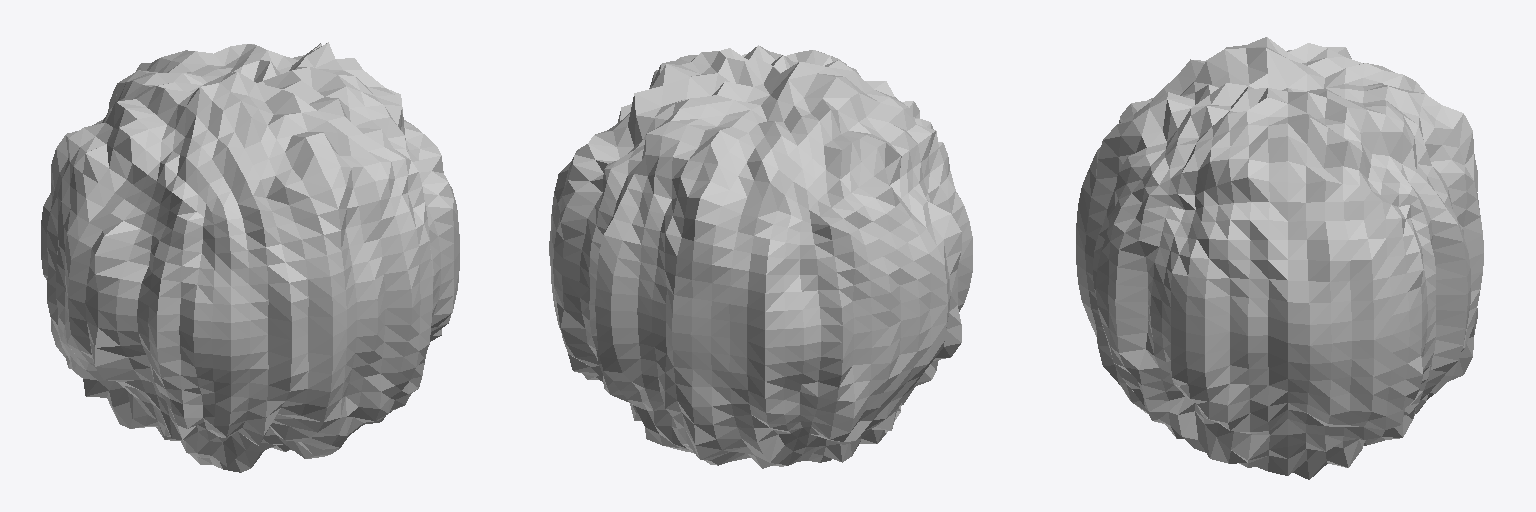
The model's file is asteroid30.obj.
3 renders of one model, left to right at view 1: azimuth 30°, elevation 25°; view 2: azimuth 150°, elevation 25°; view 3: azimuth 270°, elevation 25°, orthographic.
Parts seen in each view (by area): view 1: Cube_Cube.002; view 2: Cube_Cube.002; view 3: Cube_Cube.002.
Part boxes in pixels (bbox=[...]): Cube_Cube.002: bbox=[41, 42, 459, 472]; Cube_Cube.002: bbox=[549, 45, 972, 468]; Cube_Cube.002: bbox=[1076, 37, 1483, 479].
Bounding box in the file's own units: 1.82 × 1.85 × 1.75.